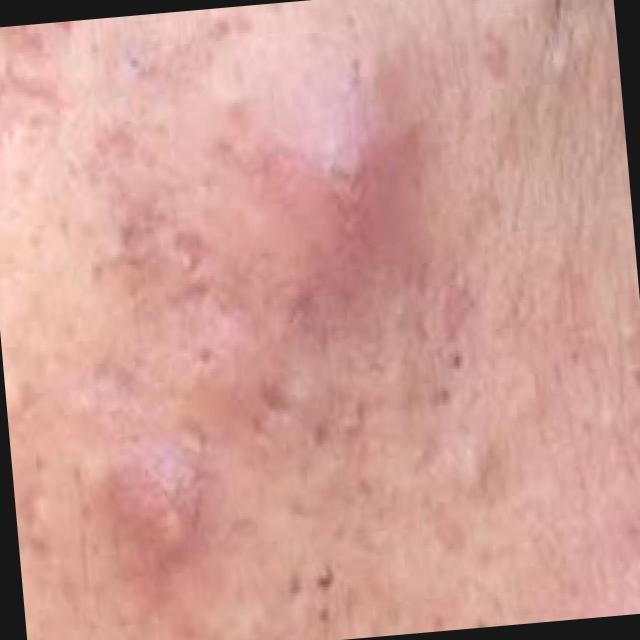blackhead: (311, 558, 338, 592), (286, 569, 304, 596), (316, 600, 334, 626), (446, 348, 466, 369), (438, 386, 451, 405), (474, 614, 486, 628)
nodule: (270, 82, 424, 262), (111, 442, 207, 561)
